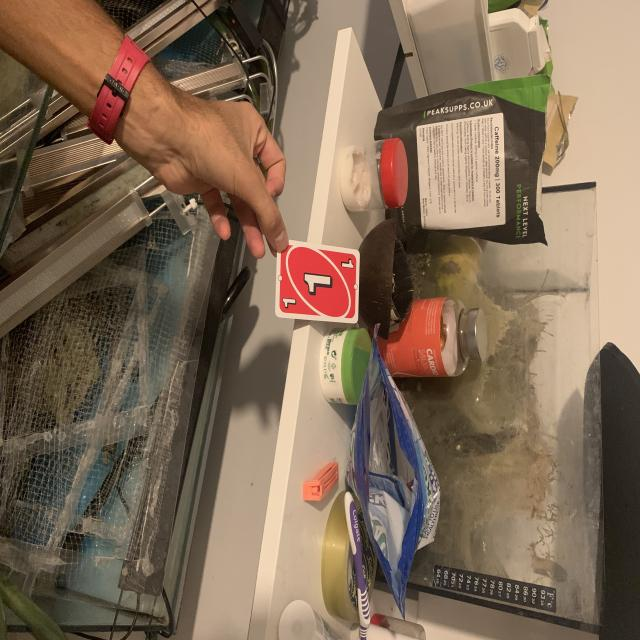lred-1: (336, 255, 356, 275)
